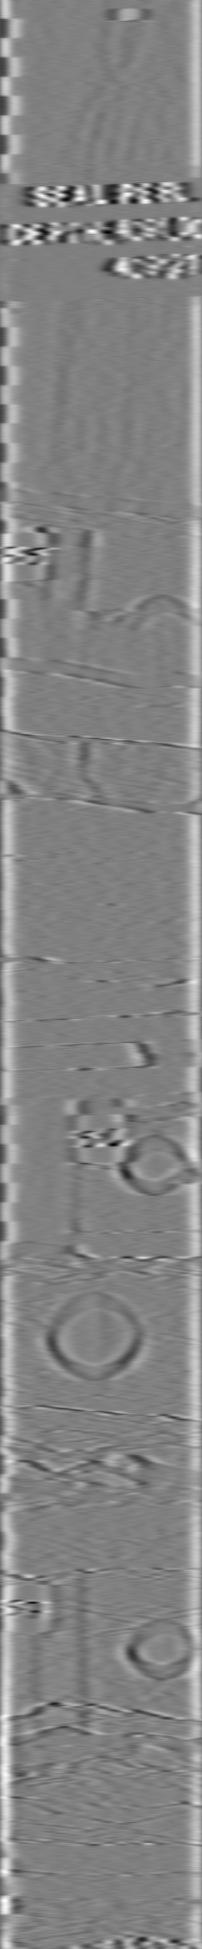hplug: (121, 1613, 202, 1681), (116, 1131, 192, 1199), (120, 590, 200, 631)
scal: (40, 1289, 144, 1385)
vplug: (10, 1093, 84, 1265), (26, 1569, 95, 1735), (24, 515, 98, 619)
